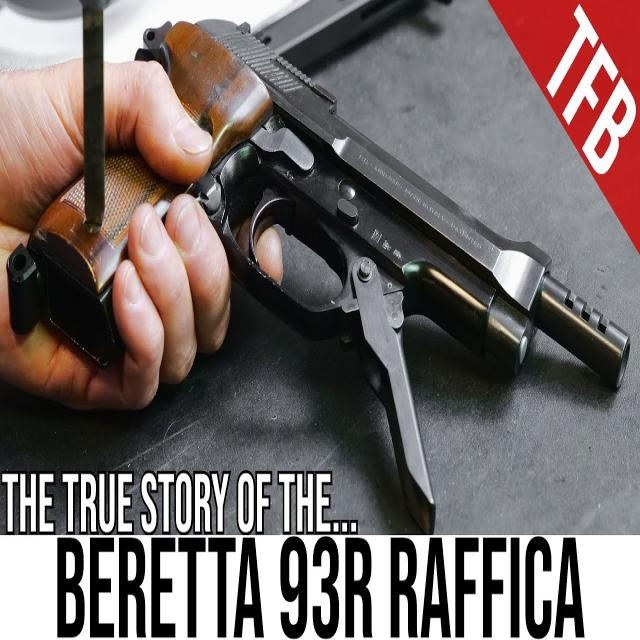HandGun: (6, 20, 630, 507)
